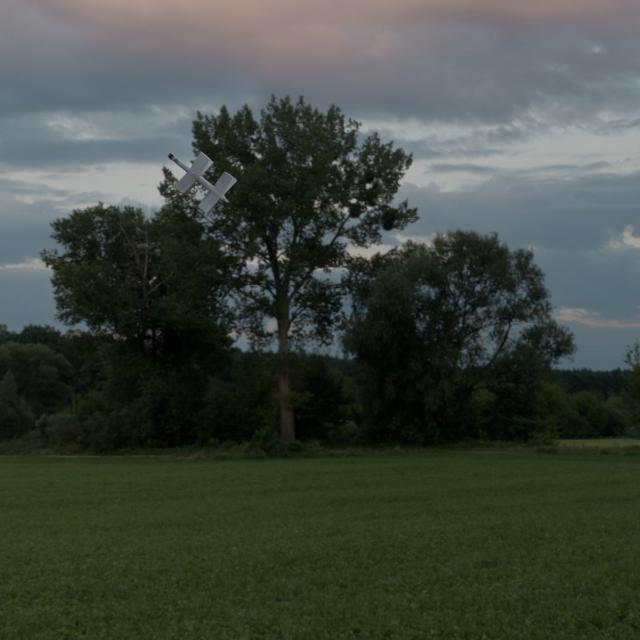Airaplan: (167, 152, 236, 215)
